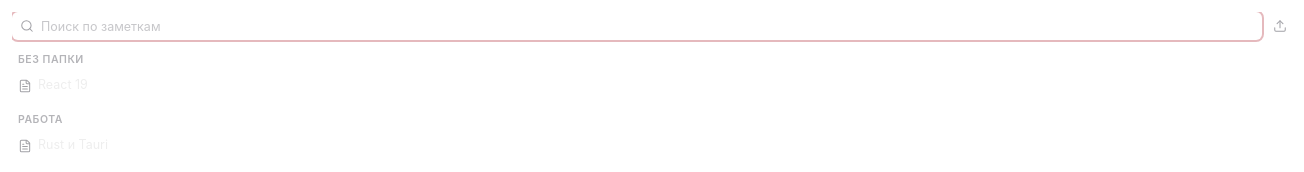
Test case: NotesPanel › клик по подсказке открывает заметку
Type "заимствование" into the dropdown labelled "Поиск по заметкам" at (637, 26), box [12,12,1262,40]
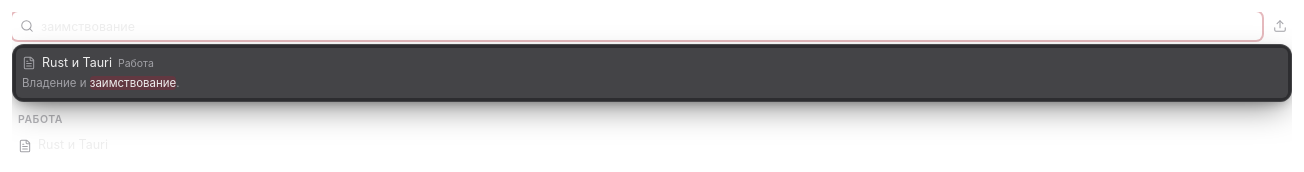
Click the option "Rust и Tauri Работа Владение и заимствование." at (77, 62), box [22,52,1282,94]
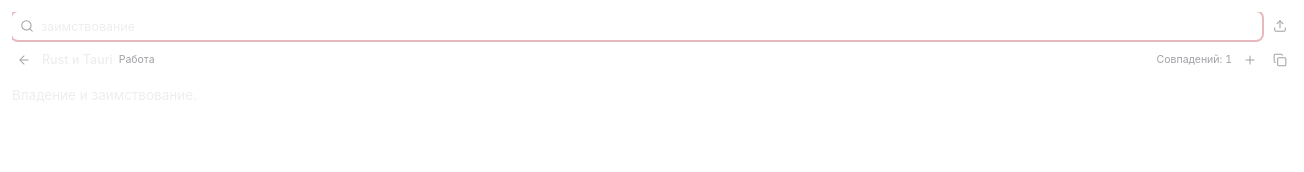
Result: the list is gone
